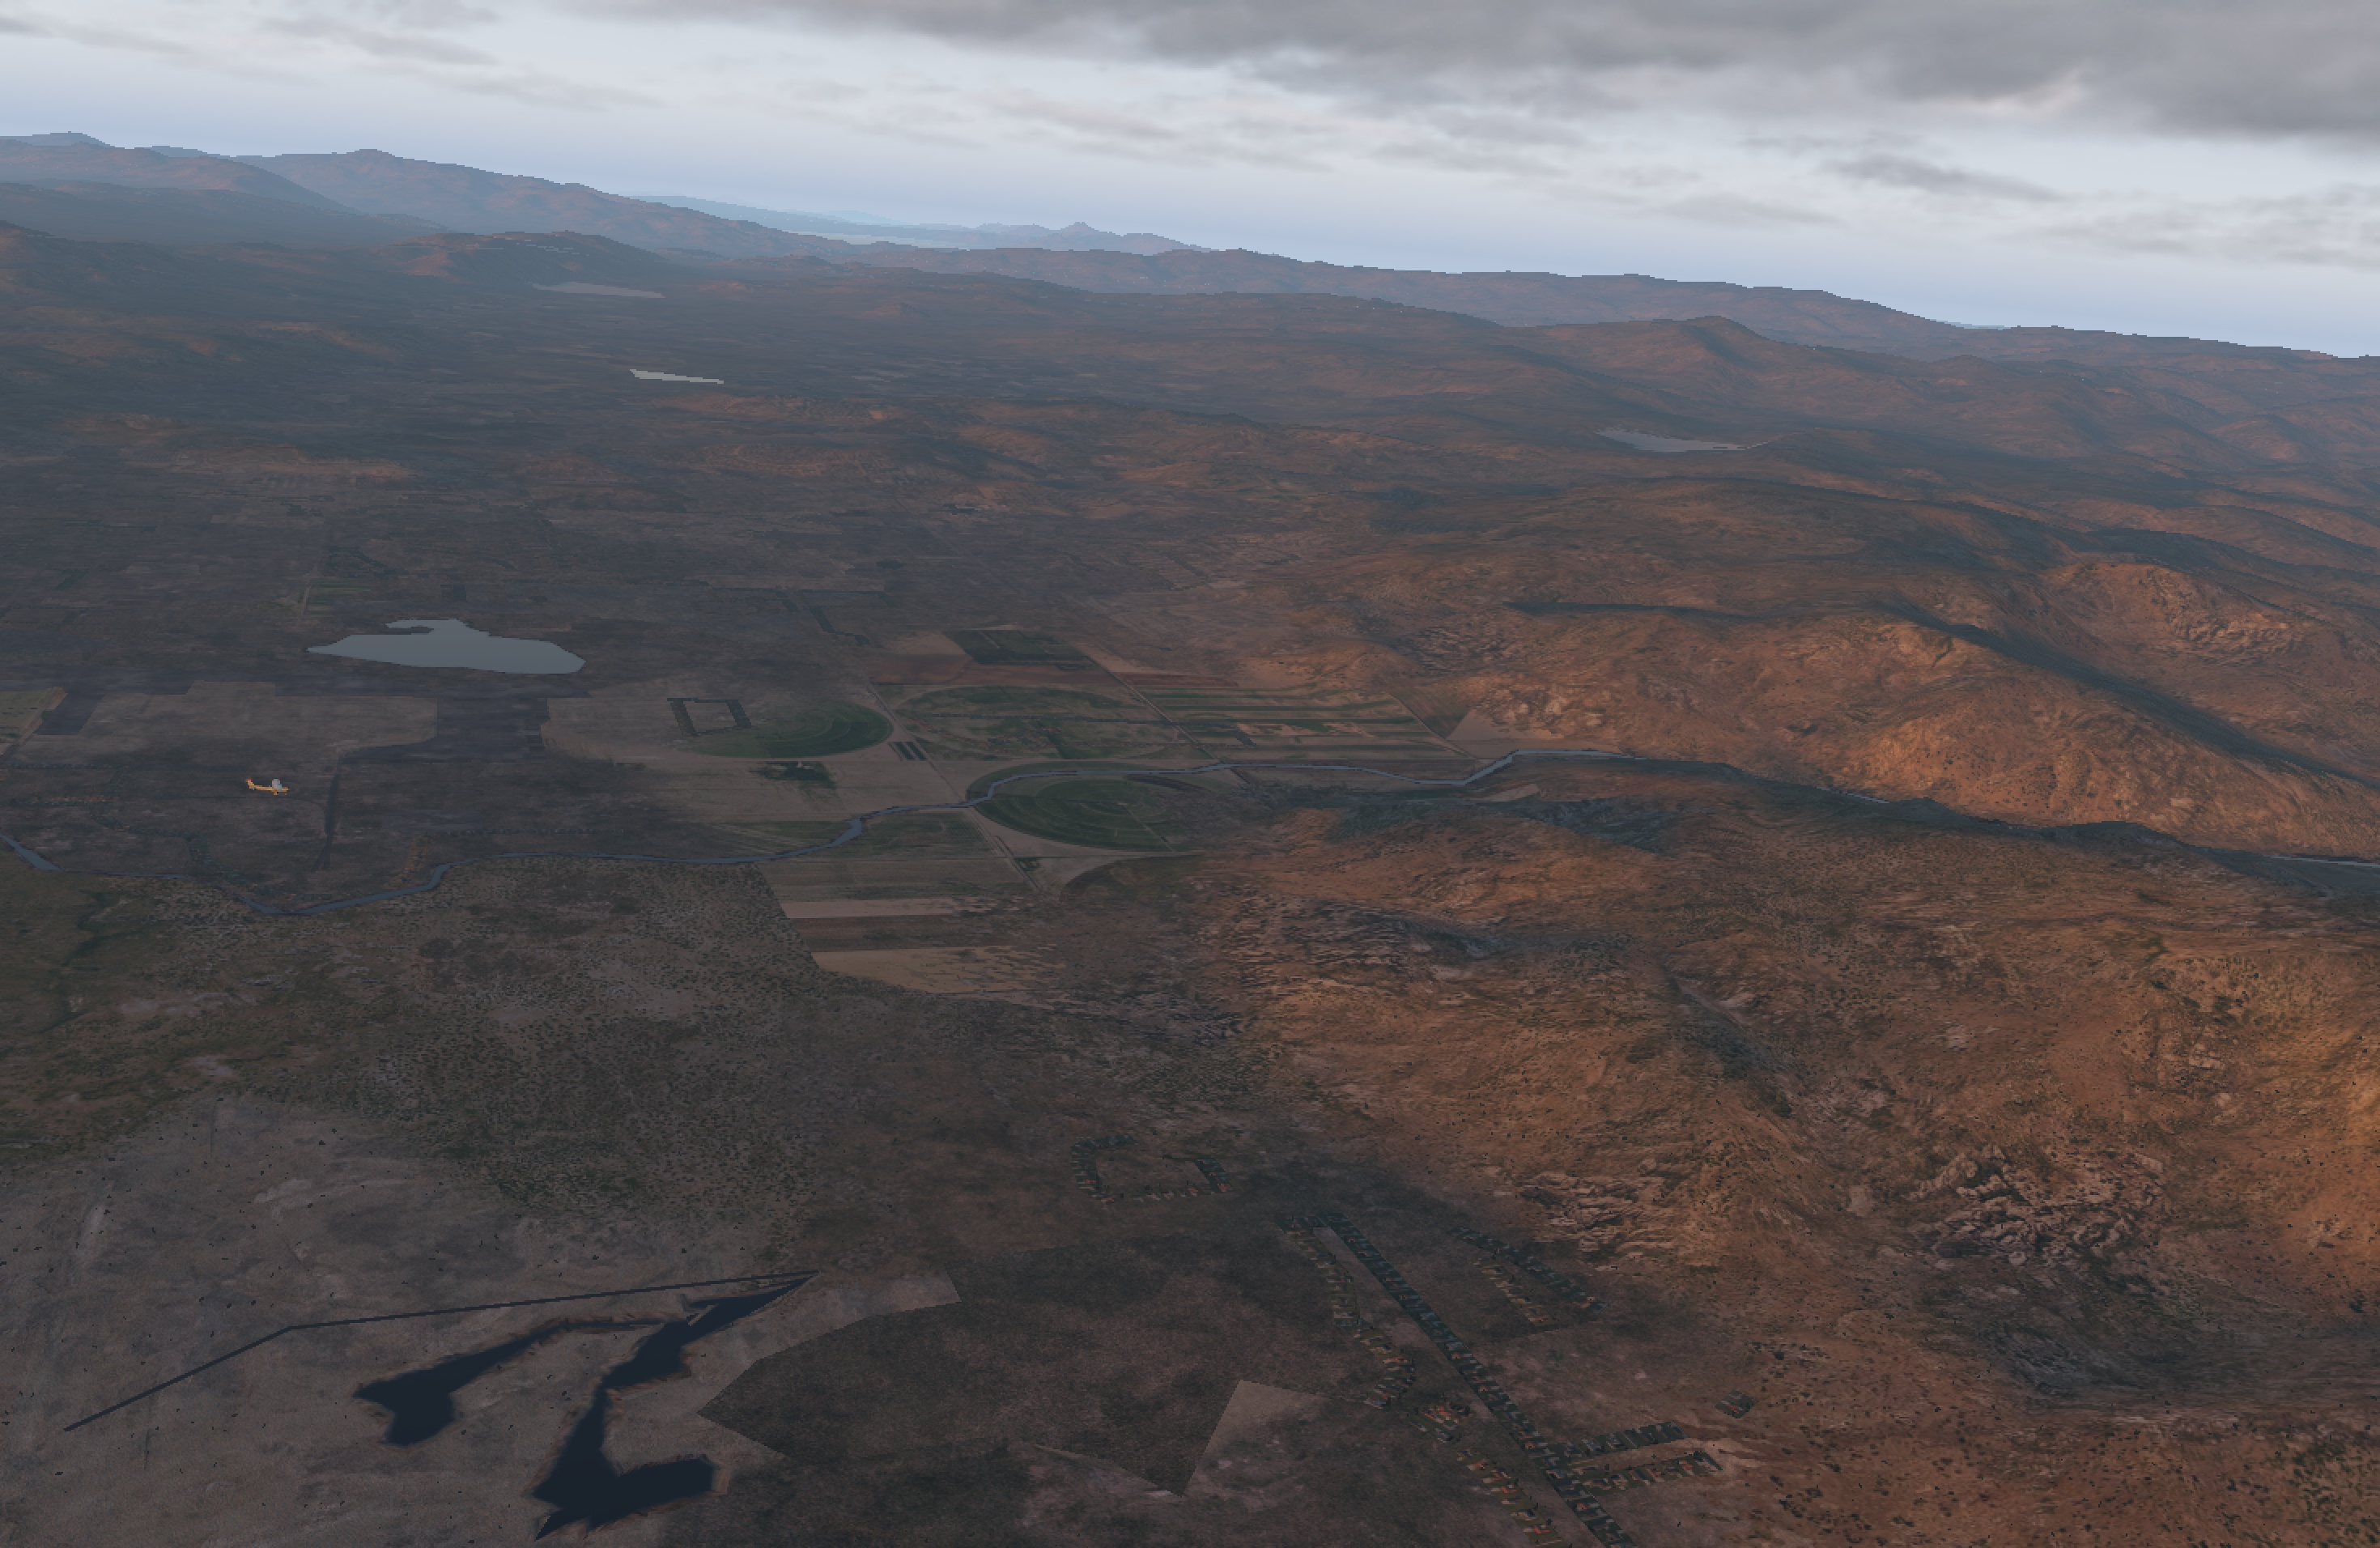aircraft: (260, 781, 297, 795)
